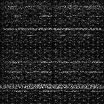lte: (1, 83, 104, 89), (1, 70, 104, 73), (1, 27, 103, 30), (1, 60, 103, 63)
